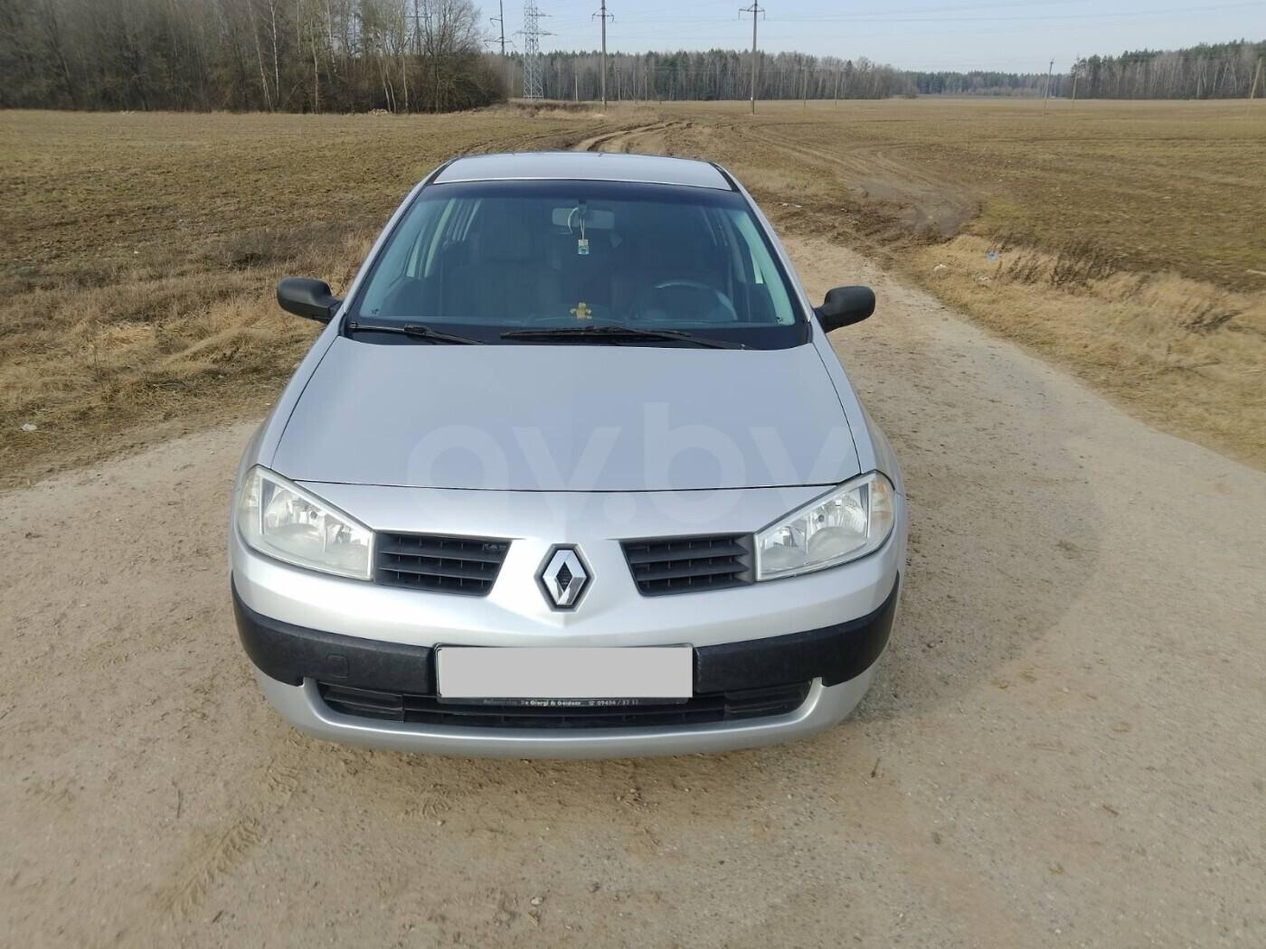Megane_2002-2006: (223, 143, 903, 754)
